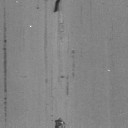slag inclusion: (2, 46, 8, 93), (3, 8, 8, 44), (52, 0, 62, 14), (54, 118, 66, 128), (4, 101, 7, 121), (66, 86, 69, 98), (36, 5, 40, 9), (71, 50, 75, 54)
